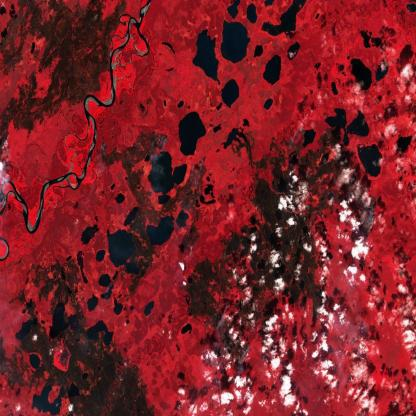fire: (354, 170, 383, 235), (146, 125, 171, 162), (208, 294, 234, 329), (0, 126, 14, 172), (96, 135, 112, 163)
